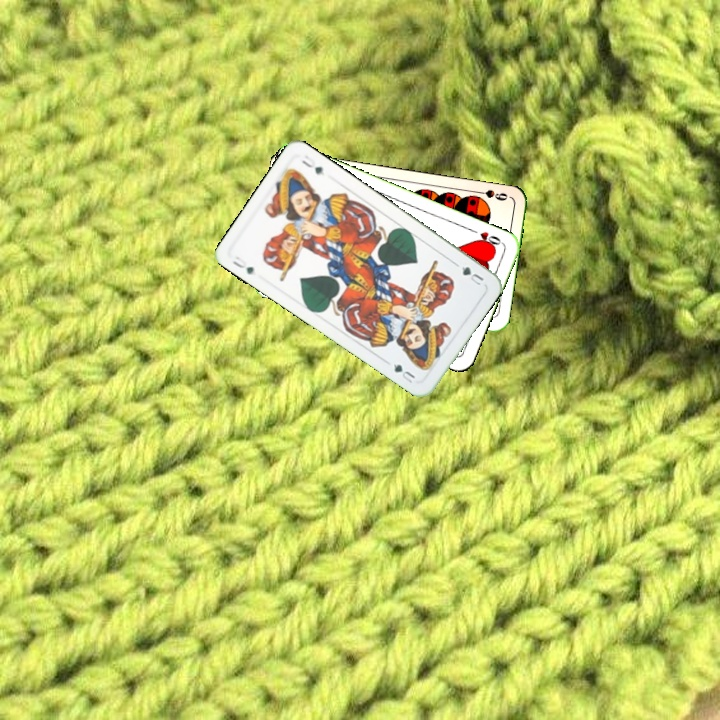GU: (457, 262, 486, 288), (228, 252, 256, 278)
HO: (466, 225, 505, 251)
S9: (471, 185, 512, 205)
